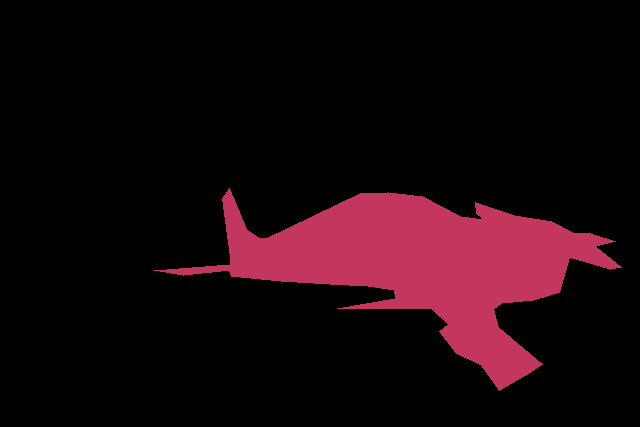Airplane: (154, 188, 622, 391)
